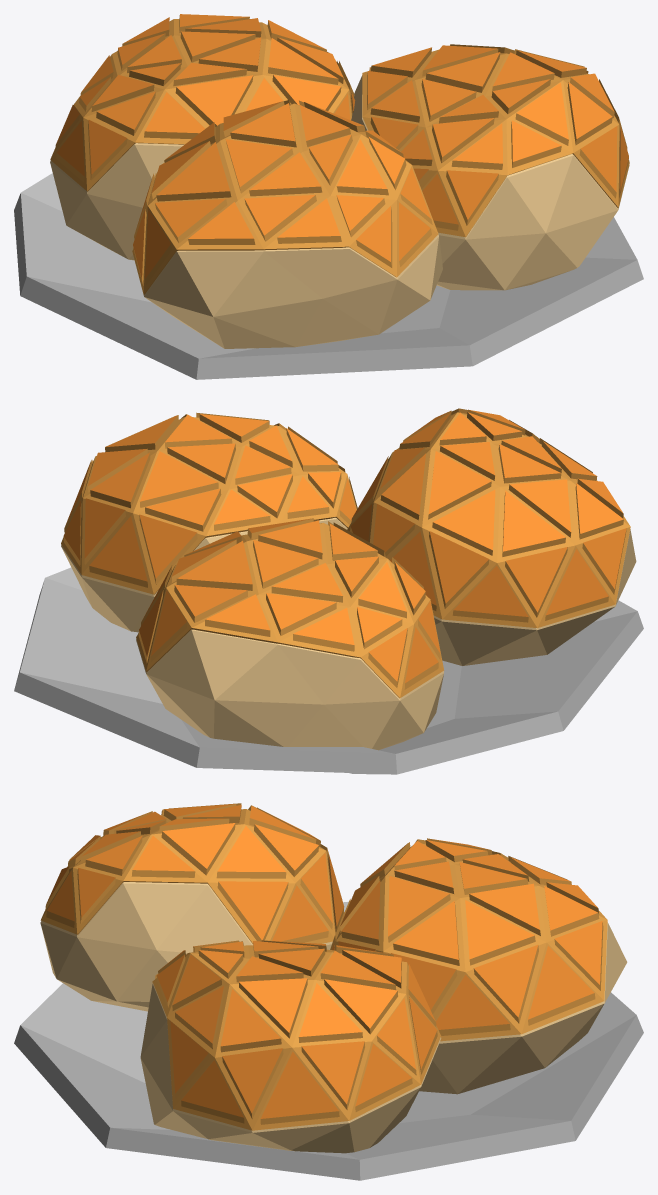
Rendered from Pineapple_Bun.fbx.
3 views of the same model, one above another, from view 1: azimuth 30°, elevation 25°; view 2: azimuth 150°, elevation 25°; view 3: azimuth 270°, elevation 25° (orthographic). The views are drawn at different scales.
Visible parts, largest first — view 1: Plane.001; view 2: Plane.001; view 3: Plane.001.
Part boxes in pixels (x1,y1,x2,y2): Plane.001: (14, 14, 643, 379); Plane.001: (14, 408, 643, 774); Plane.001: (14, 803, 643, 1180).
Size of the model in its own units: 208 by 87.89 by 208.
